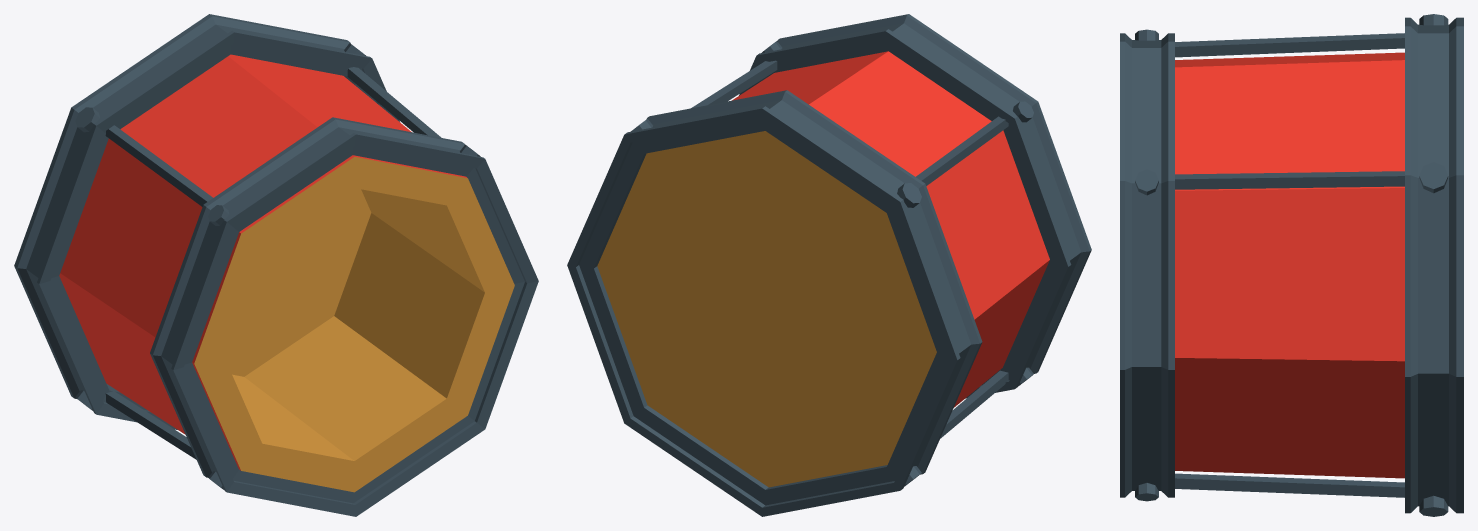
The model's file is dhol drum.fbx.
3 views of the same model, side by side, from view 1: azimuth 30°, elevation 25°; view 2: azimuth 150°, elevation 25°; view 3: azimuth 270°, elevation 25° (orthographic). The views are drawn at different scales.
Parts seen in each view (by area): view 1: imagetostl_mesh1, imagetostl_mesh2, imagetostl_mesh0; view 2: imagetostl_mesh1, imagetostl_mesh2, imagetostl_mesh0; view 3: imagetostl_mesh0, imagetostl_mesh2.
Boxes of the visible parts, x1,y1,x2,y2 form: imagetostl_mesh1: (194, 157, 514, 492); imagetostl_mesh2: (14, 14, 538, 516); imagetostl_mesh0: (59, 54, 466, 470); imagetostl_mesh1: (597, 131, 936, 487); imagetostl_mesh2: (567, 14, 1091, 516); imagetostl_mesh0: (732, 51, 1049, 407); imagetostl_mesh0: (1175, 52, 1404, 478); imagetostl_mesh2: (1120, 14, 1463, 516).
Bounding box in the file's own units: 1157 × 1157 × 754.
